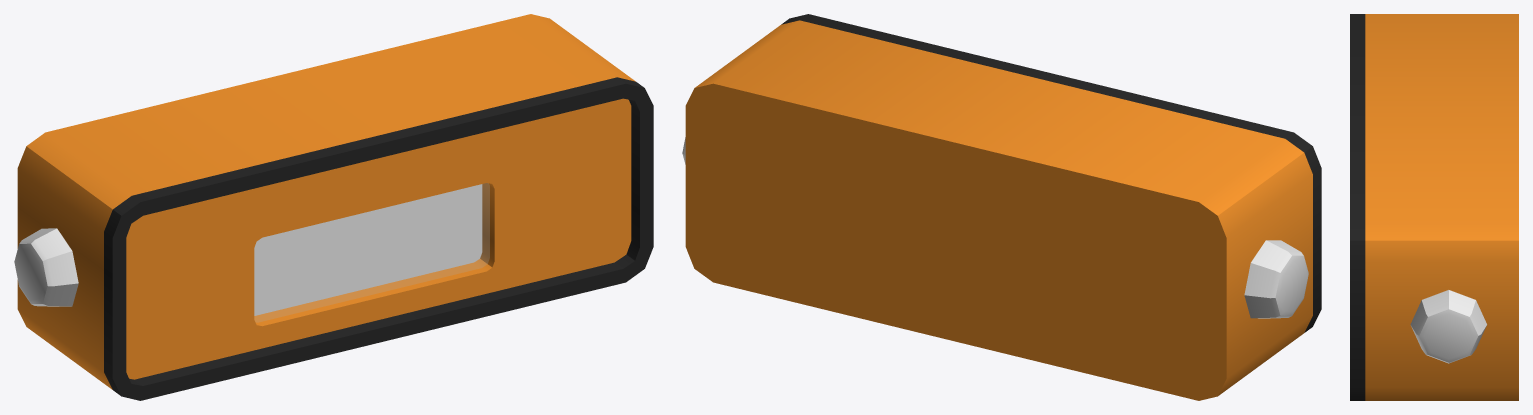
The model's file is Amperimetro.fbx.
The picture shows the model from 3 angles, left to right: view 1: azimuth 30°, elevation 25°; view 2: azimuth 150°, elevation 25°; view 3: azimuth 270°, elevation 25°; orthographic projection. The views are drawn at different scales.
Parts seen in each view (by area): view 1: Cubo; view 2: Cubo; view 3: Cubo.
Boxes of the visible parts, bbox=[...] form: Cubo: bbox=[14, 14, 653, 400]; Cubo: bbox=[682, 14, 1321, 400]; Cubo: bbox=[1350, 14, 1518, 400].
Bounding box in the file's own units: 317 × 101 × 87.74.
